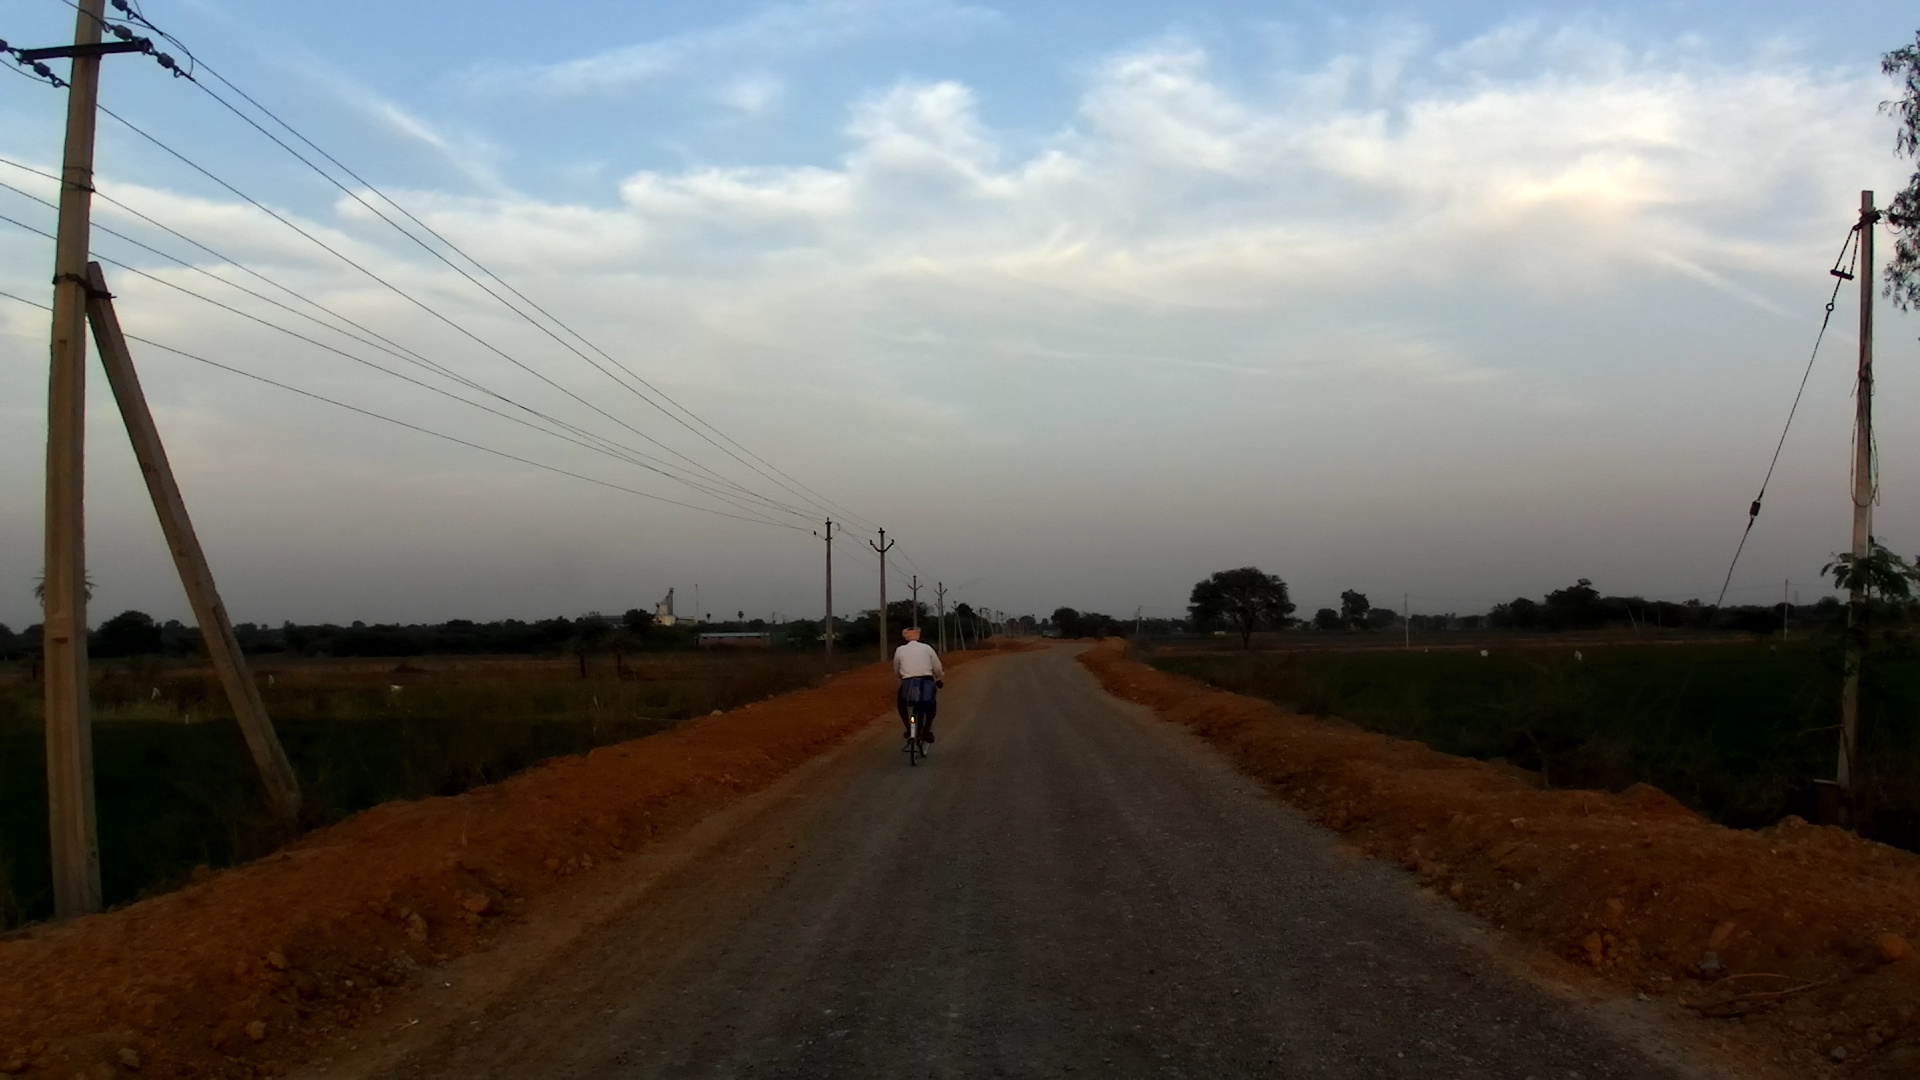bicycle: (897, 671, 950, 768)
rider: (892, 622, 947, 746)
